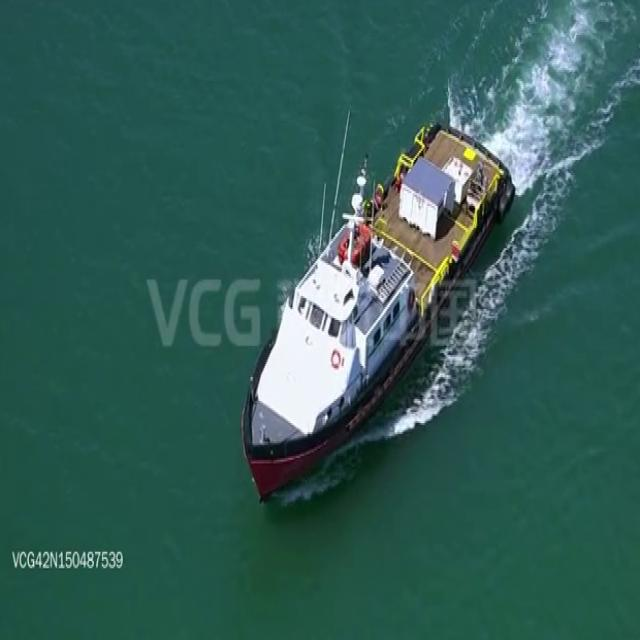houseboat: (241, 118, 511, 507)
